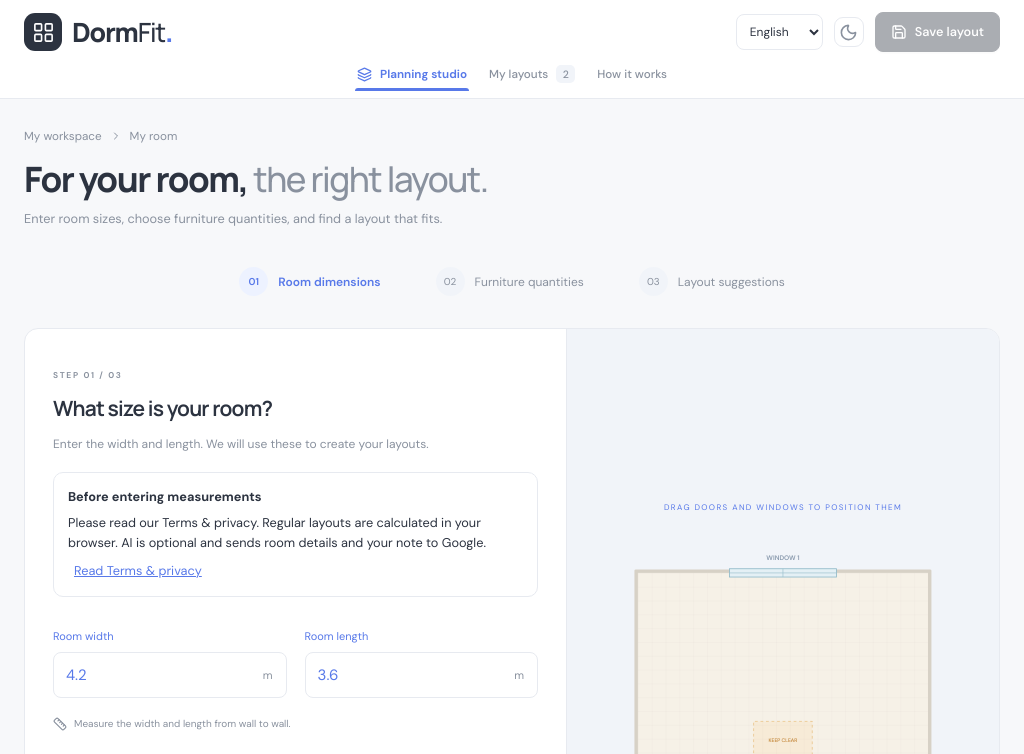
Test: saved layout deletion › shows the selected name and keeps both layouts when cancelled or closed
Click the button "My layouts 2" at (532, 74), box [487, 58, 577, 90]
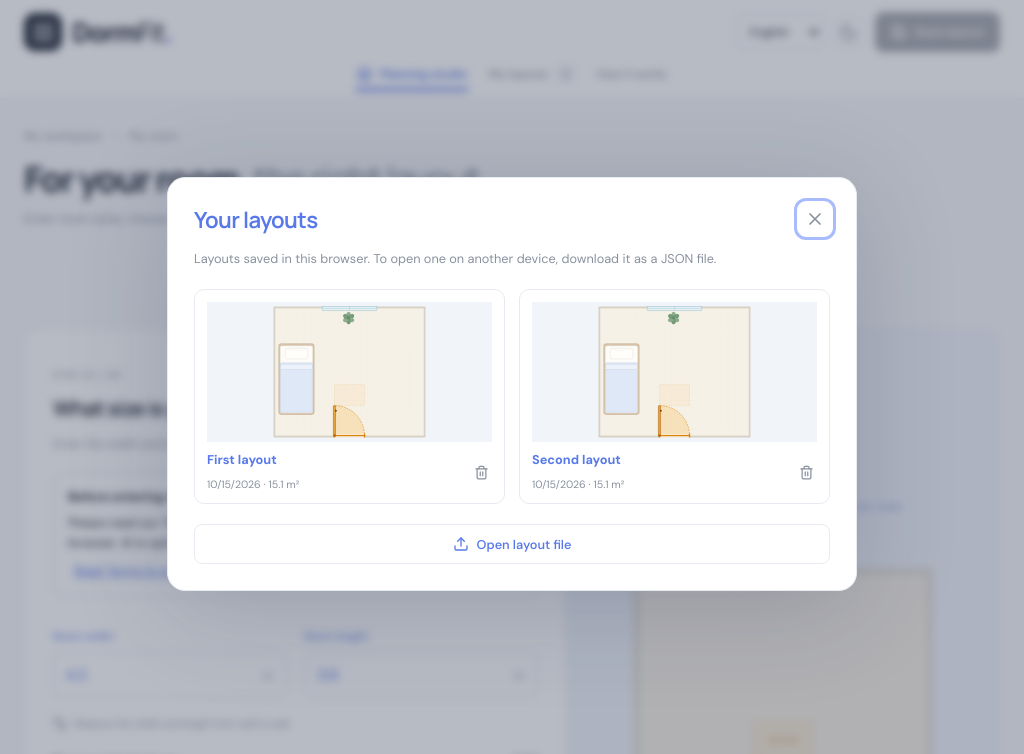
Click the button named "First layout delete layout" at (481, 472), box [466, 457, 496, 487]
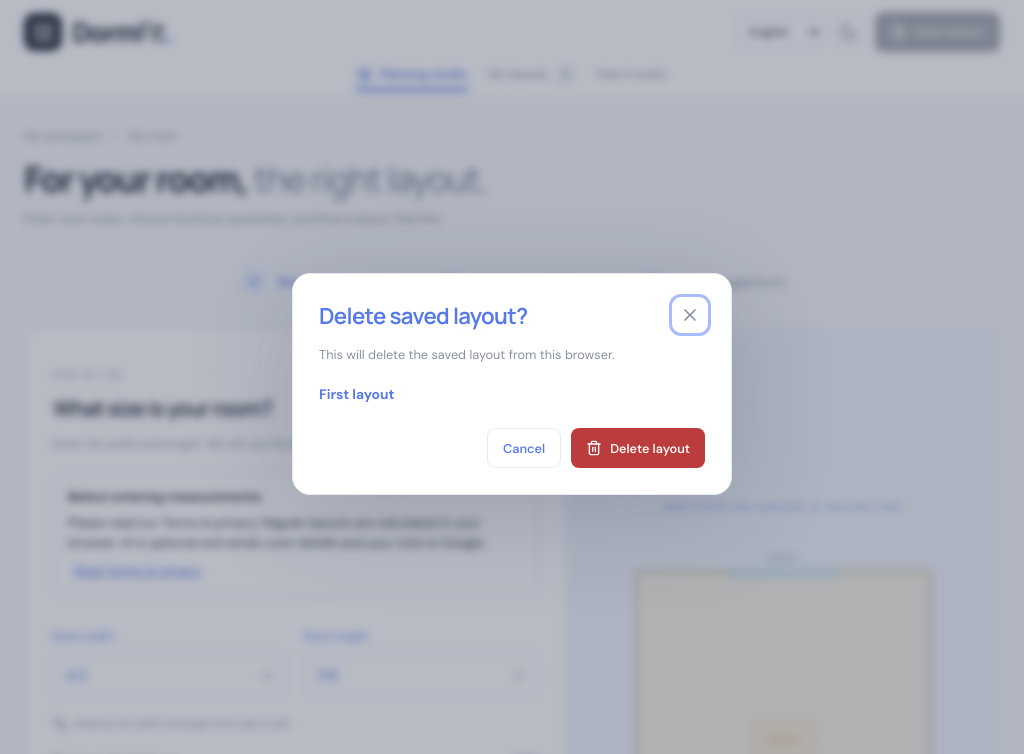
Result: the dialog "Delete saved layout?" shows "First layout" at [319, 385, 394, 403]
Click the button "Cancel" at (524, 448), box [487, 428, 561, 468]
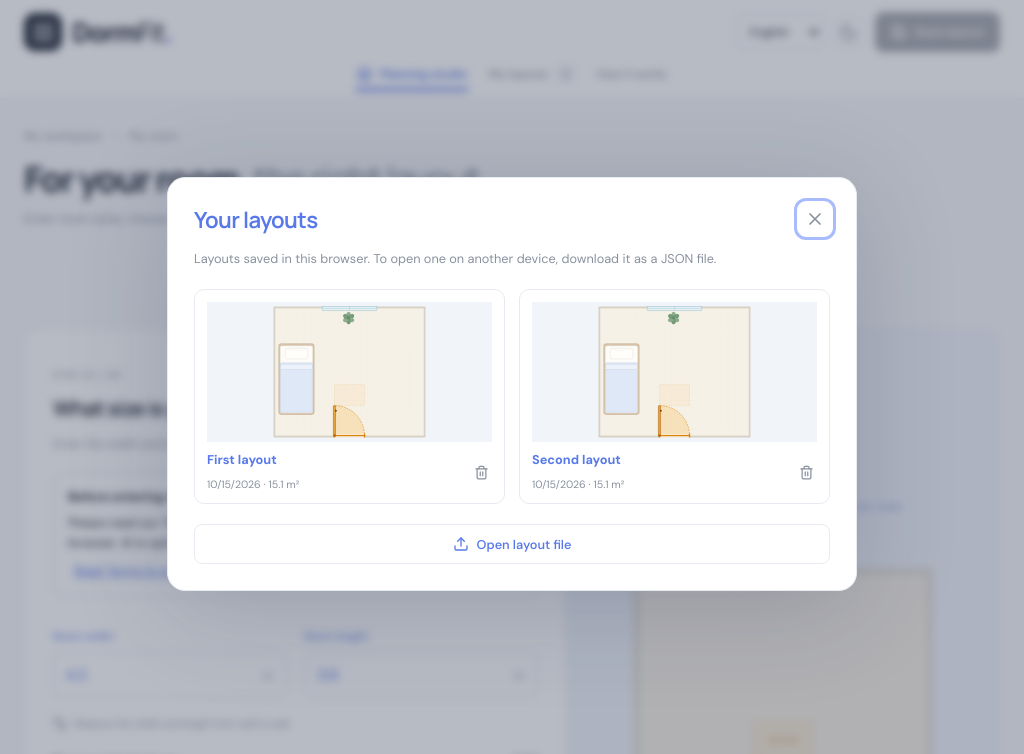
Result: the dialog "Your layouts" is shown at [167, 177, 857, 591]
Click the button named "First layout delete layout" at (481, 472), box [466, 457, 496, 487]
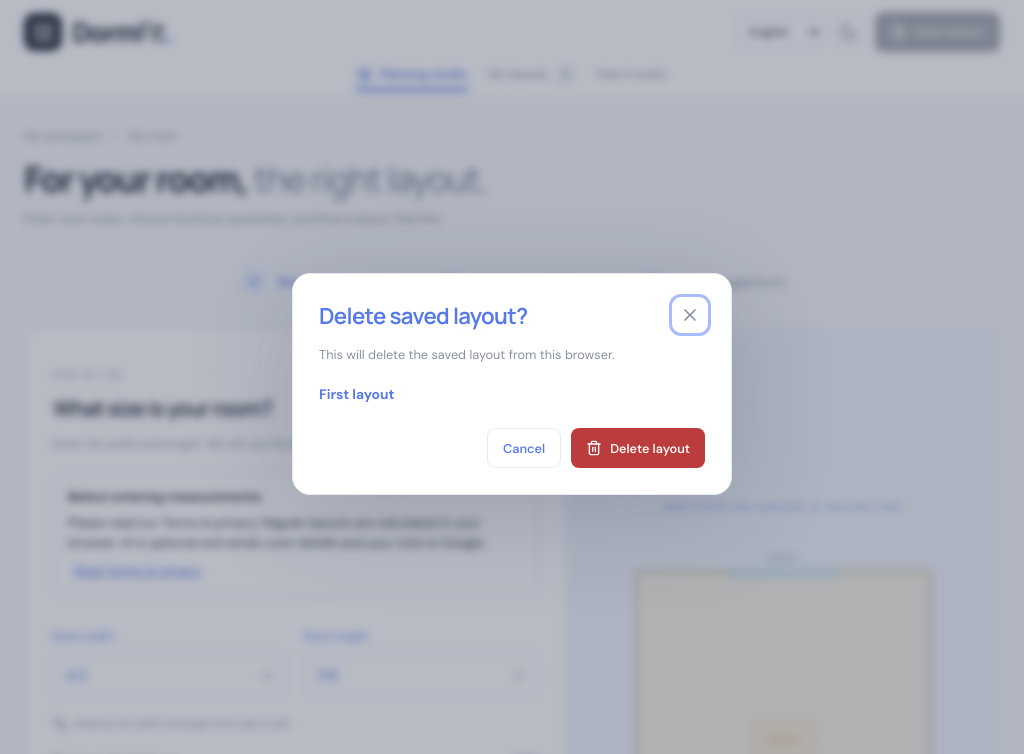
Click the button named "Close dialog" at (690, 315), box [675, 300, 705, 330]
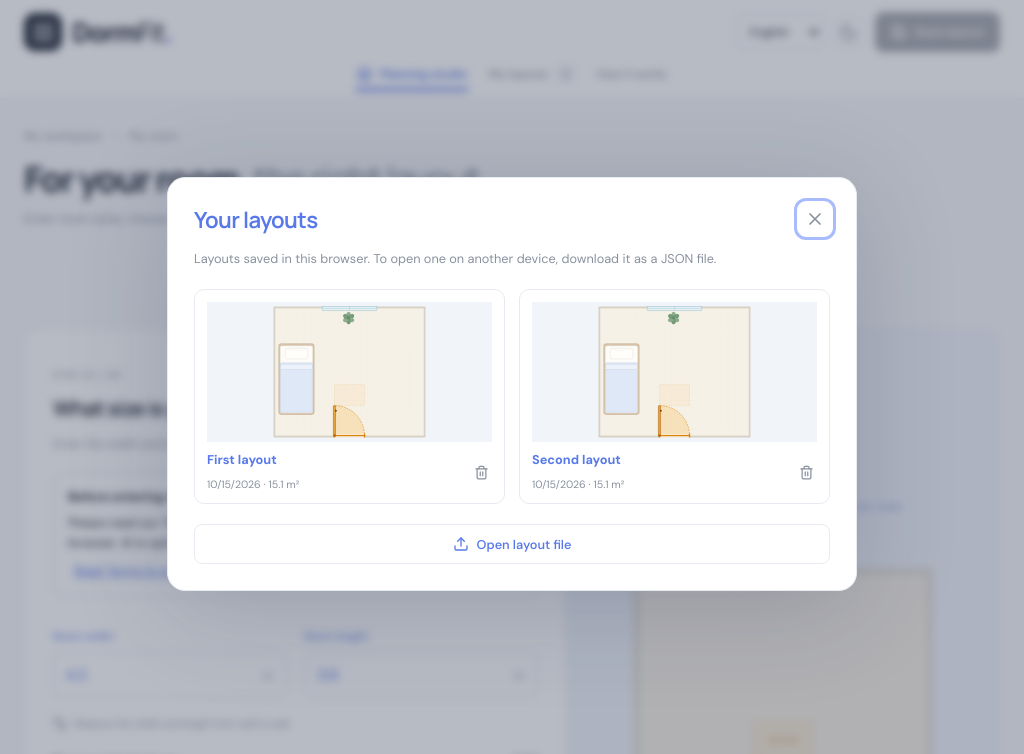
Result: the button named "First layout delete layout" is shown at [466, 457, 496, 487]
